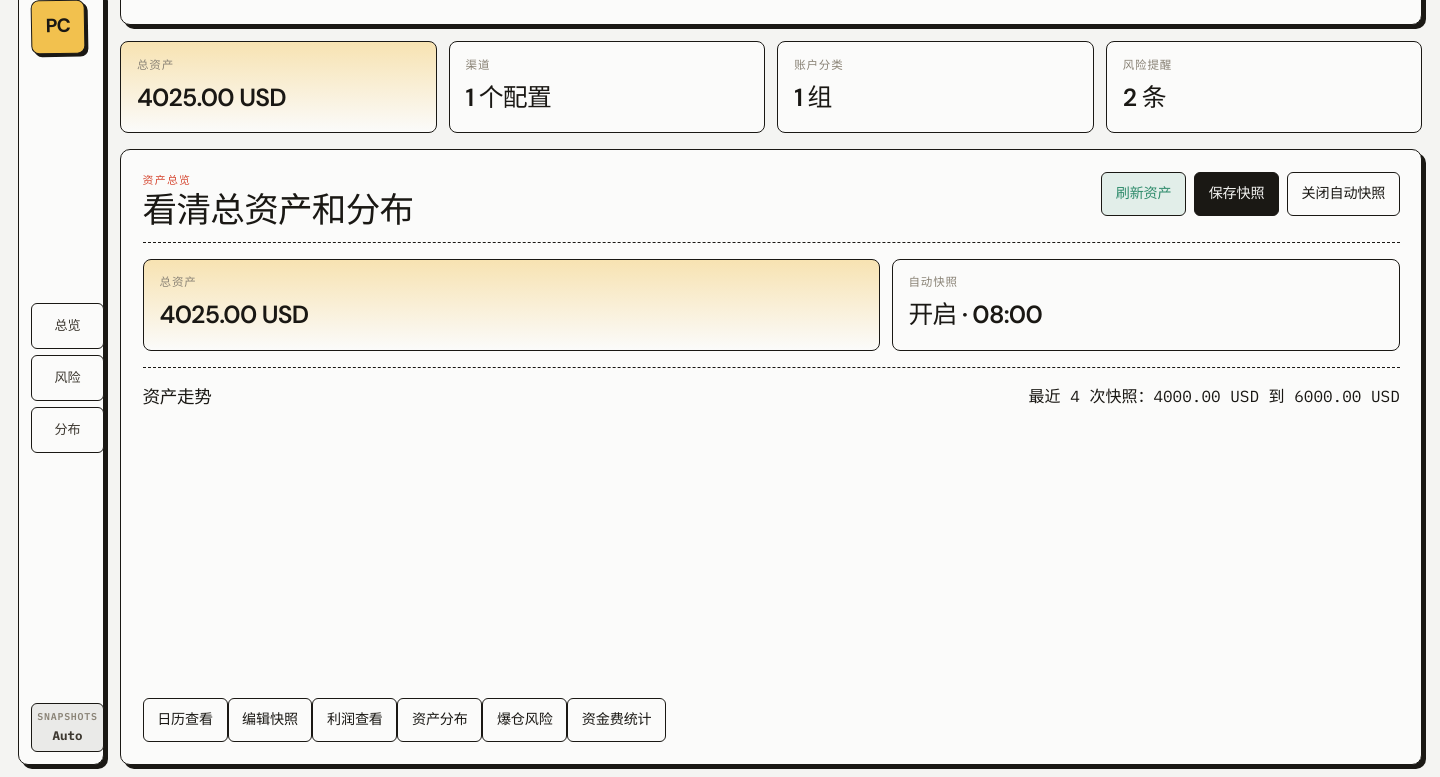
Test case: shows previous-day profit calendar with monthly and yearly totals
(page scrolled)
Expected: the text "4025.00 USD" next to "1 个配置" is shown, top-left (137, 80), bottom-right (286, 114)
Click the button "利润查看".
click(355, 720)  # box top-left (312, 698), bottom-right (397, 742)
(page scrolled)
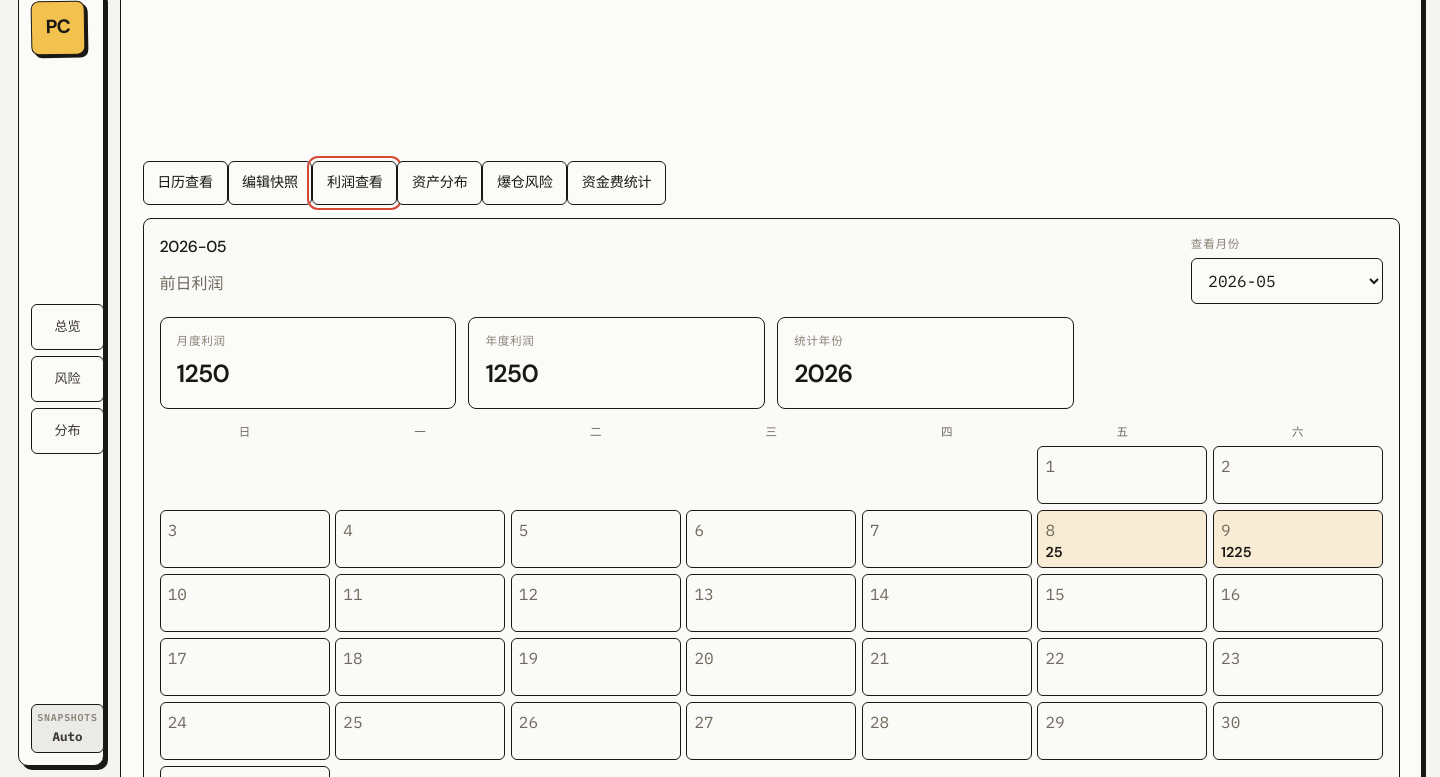
Result: the heading "2026-05" is shown at top-left (160, 235), bottom-right (226, 259)
Result: the cell named "2026-05-08 利润 25" is shown at top-left (1037, 510), bottom-right (1207, 568)
Result: the cell named "2026-05-09 利润 1225" is shown at top-left (1213, 510), bottom-right (1383, 568)
